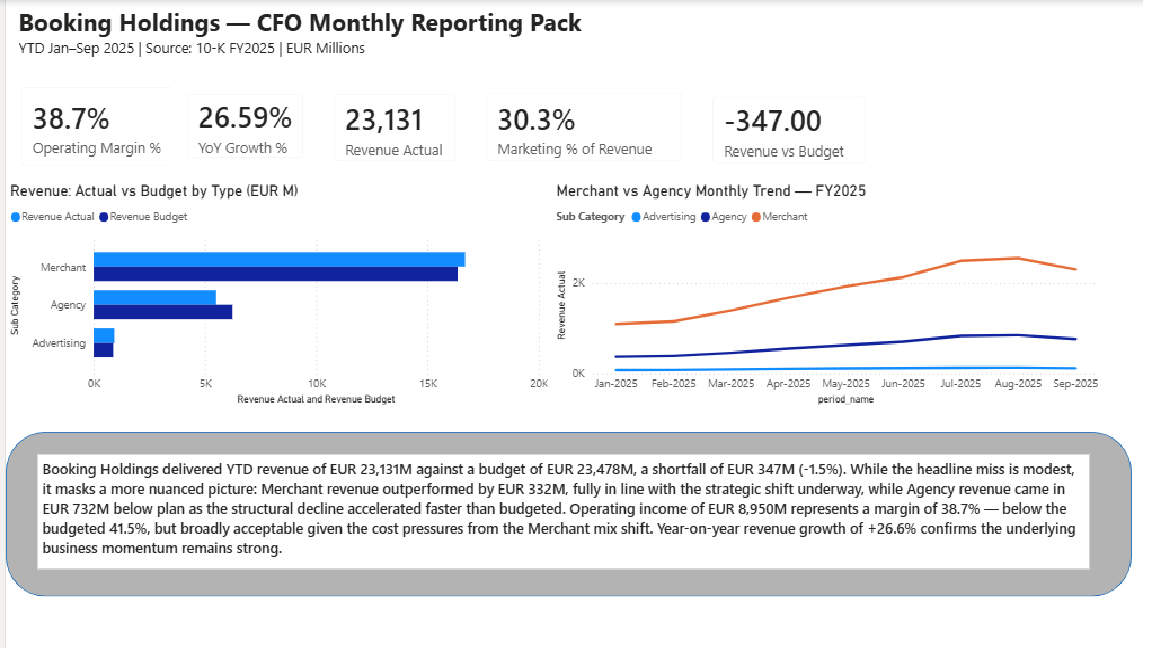

This screenshot's page, from the dashboard's own definition file:
{"tool":"powerbi","page":{"name":"Executive Summary","canvas":[1280,720],"ordinal":0},"visuals":[{"type":"shape","box":[0,468.7,1258.6,179.5],"z":0},{"type":"textbox","box":[9.4,0,646.3,77.5],"z":1000},{"type":"cardVisual","fields":{"Data":["fact.Operating Margin %"]},"box":[0,77.5,228.7,119.1],"z":2000},{"type":"cardVisual","fields":{"Data":["fact.Revenue vs Budget"]},"box":[772.9,86.9,206,107.7],"z":3000},{"type":"cardVisual","fields":{"Data":["fact.YoY Growth %"]},"box":[185.2,85,164.4,103.9],"z":4000},{"type":"cardVisual","fields":{"Data":["fact.Revenue Actual"]},"box":[349.6,85,170.1,107.7],"z":5000},{"type":"cardVisual","fields":{"Data":["fact.Marketing % of Revenue"]},"box":[519.7,83.2,253.2,109.6],"z":6000},{"type":"clusteredBarChart","title":"Revenue: Actual vs Budget by Type (EUR M)","fields":{"Category":["fact.sub_category"],"Y":["fact.Revenue Actual","fact.Revenue Budget"]},"box":[0,196.5,610.4,247.6],"z":7000},{"type":"lineChart","title":"Merchant vs Agency Monthly Trend — FY2025","fields":{"Category":["fact.period_name"],"Y":["fact.Revenue Actual"],"Series":["fact.sub_category"]},"box":[610.4,196.5,619.8,247.6],"z":8000},{"type":"textbox","box":[35.9,493.2,1175.4,124.7],"z":9000}]}

Visuals, with their boxes in screenshot pixels (x1, y1, x2, y2), scaled from the page's 1280x720 canvas onto the 1152x648 screenshot:
shape: pyautogui.locateOnScreen(0, 422, 1133, 583)
textbox: pyautogui.locateOnScreen(8, 0, 590, 70)
cardVisual - fact.Operating Margin %: pyautogui.locateOnScreen(0, 70, 206, 177)
cardVisual - fact.Revenue vs Budget: pyautogui.locateOnScreen(696, 78, 881, 175)
cardVisual - fact.YoY Growth %: pyautogui.locateOnScreen(167, 76, 315, 170)
cardVisual - fact.Revenue Actual: pyautogui.locateOnScreen(315, 76, 468, 173)
cardVisual - fact.Marketing % of Revenue: pyautogui.locateOnScreen(468, 75, 696, 174)
"Revenue: Actual vs Budget by Type (EUR M)" clusteredBarChart: pyautogui.locateOnScreen(0, 177, 549, 400)
"Merchant vs Agency Monthly Trend — FY2025" lineChart: pyautogui.locateOnScreen(549, 177, 1107, 400)
textbox: pyautogui.locateOnScreen(32, 444, 1090, 556)
